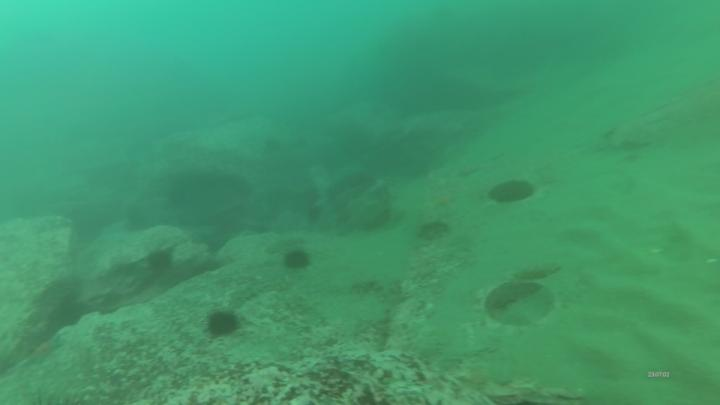echinus: (205, 307, 241, 342), (280, 245, 316, 275), (149, 246, 173, 277)
